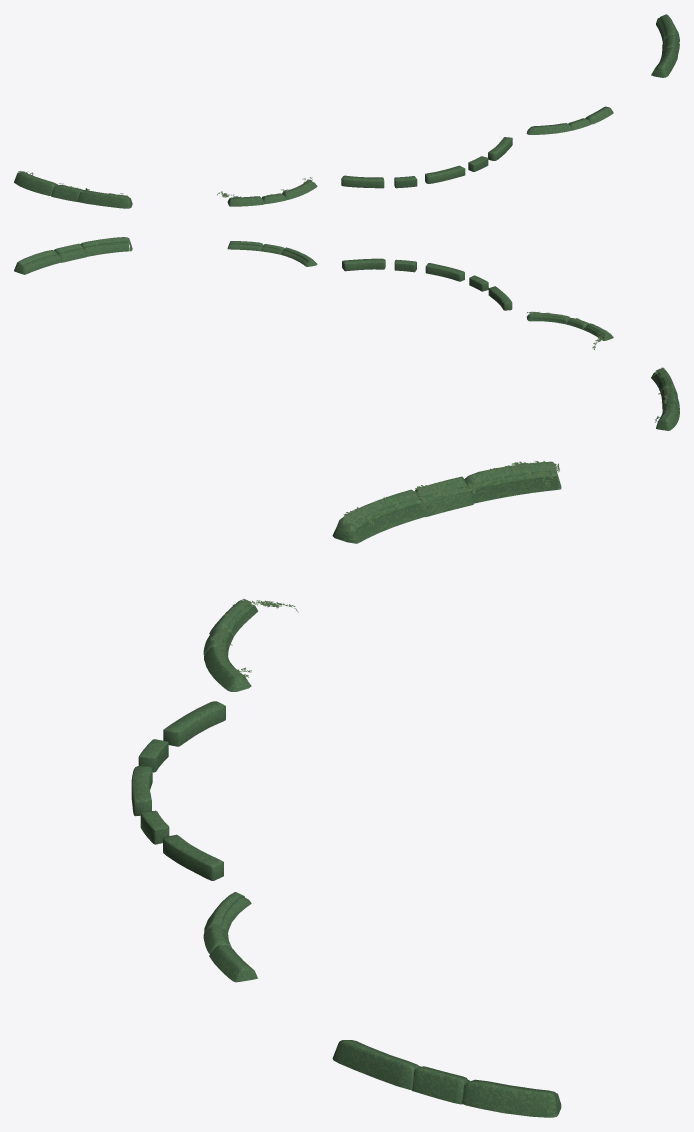
The model's file is pref_sm_4v4pointbake_CSD_D_lv2.fbx.
3 views of the same model, one above another, from view 1: azimuth 30°, elevation 25°; view 2: azimuth 150°, elevation 25°; view 3: azimuth 270°, elevation 25° (orthographic). The views are drawn at different scales.
Parts seen in each view (by area): view 1: sm_4v4pointbake_CSD_D_c_lv2, sm_4v4pointbake_CSD_D_b_lv2, sm_4v4pointbake_CSD_D_a_lv2; view 2: sm_4v4pointbake_CSD_D_b_lv2, sm_4v4pointbake_CSD_D_c_lv2, sm_4v4pointbake_CSD_D_a_lv2; view 3: sm_4v4pointbake_CSD_D_b_lv2, sm_4v4pointbake_CSD_D_c_lv2, sm_4v4pointbake_CSD_D_a_lv2.
Boxes of the visible parts, x1=… form: sm_4v4pointbake_CSD_D_c_lv2: x1=14, y1=172, x2=417, y2=208; sm_4v4pointbake_CSD_D_b_lv2: x1=425, y1=14, x2=679, y2=183; sm_4v4pointbake_CSD_D_a_lv2: x1=18, y1=171, x2=312, y2=200; sm_4v4pointbake_CSD_D_b_lv2: x1=14, y1=237, x2=464, y2=281; sm_4v4pointbake_CSD_D_c_lv2: x1=469, y1=275, x2=679, y2=430; sm_4v4pointbake_CSD_D_a_lv2: x1=527, y1=311, x2=673, y2=422; sm_4v4pointbake_CSD_D_b_lv2: x1=131, y1=765, x2=561, y2=1117; sm_4v4pointbake_CSD_D_c_lv2: x1=138, y1=461, x2=561, y2=772; sm_4v4pointbake_CSD_D_a_lv2: x1=210, y1=461, x2=559, y2=677.
Size of the model in its own units: 106 by 1.82 by 30.13.
